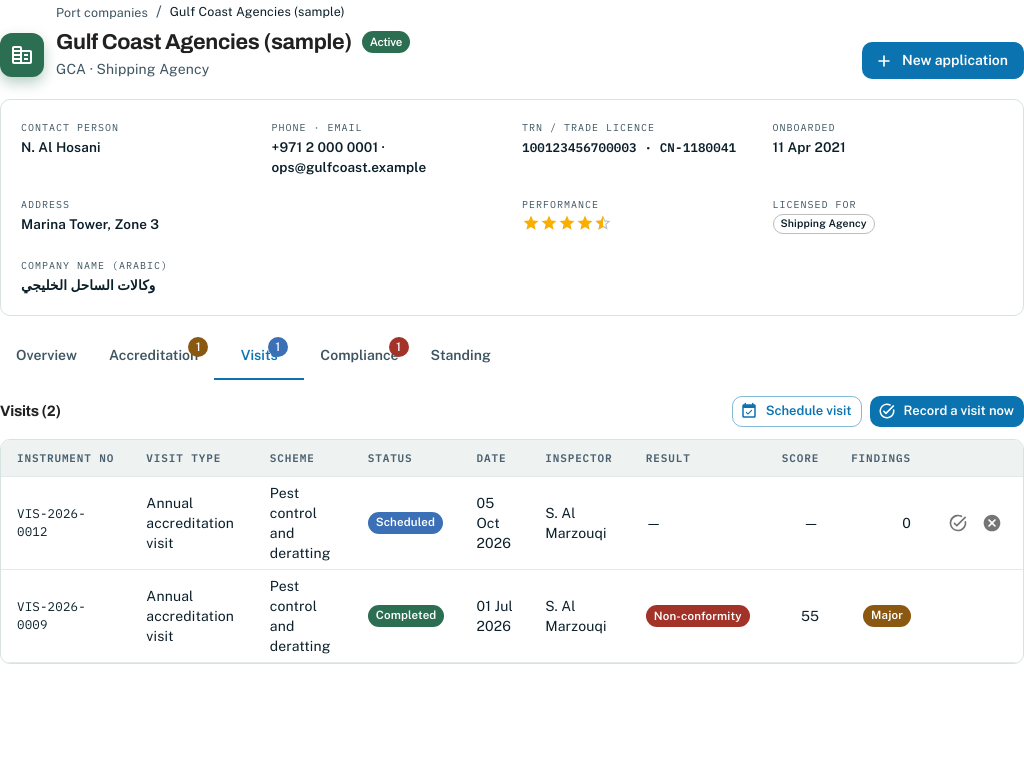
Test case: Annual accreditation and inspection visits › lists the visits paid, and offers to record a visit now or schedule one
Expected: the text "VIS-2026-0012" is shown, [1,476,130,569]
Expected: the text "VIS-2026-0009" is shown, [1,569,130,662]
Click the button "Record a visit now" at (947, 411), box [870,396,1023,427]
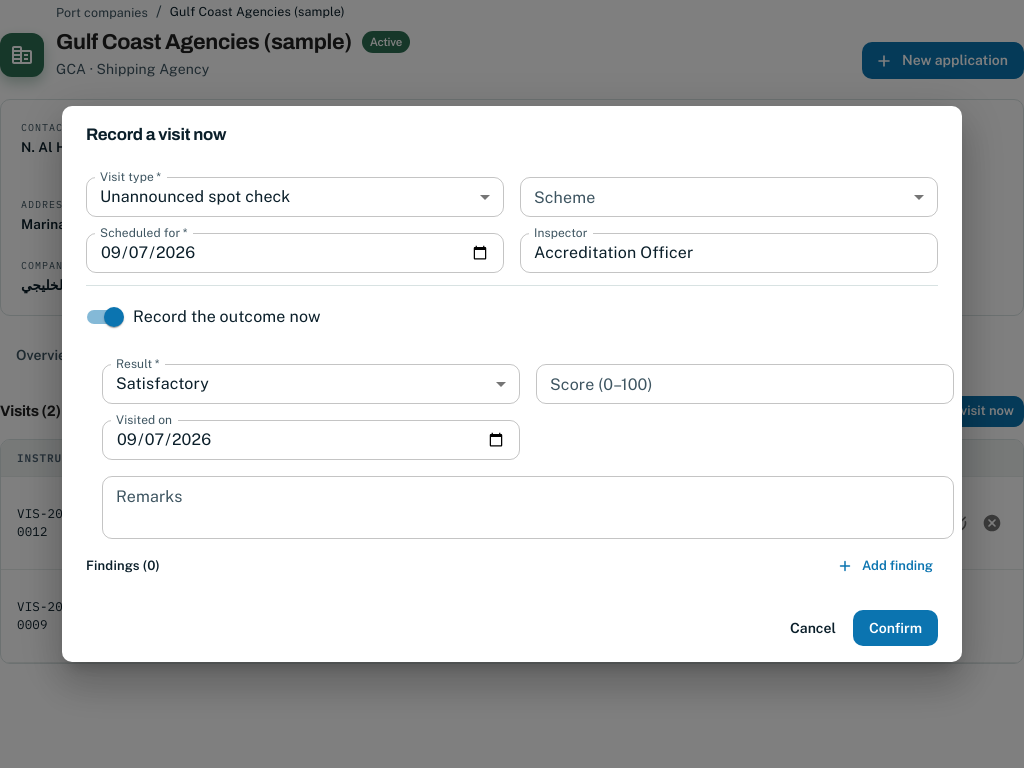
Now the dialog is shown
Now the checkbox labelled "Record the outcome now" is checked, box [87,307,321,327]
Now the text "Findings (0)" is shown, box [86,556,160,576]
